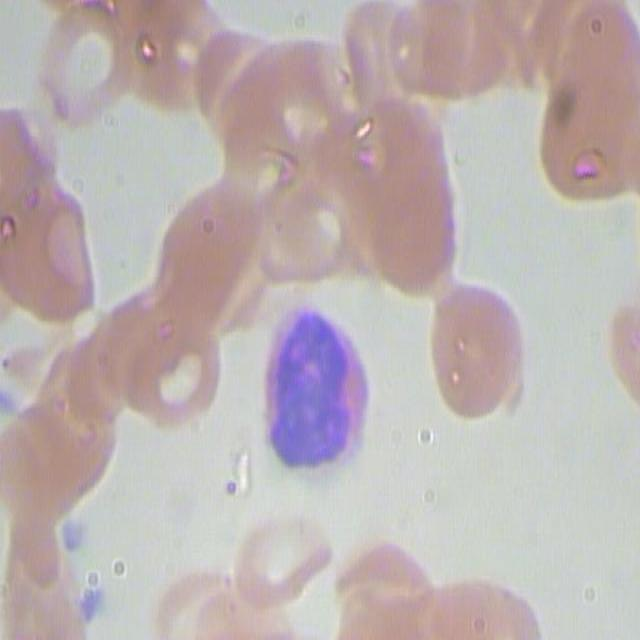RBC: (340, 88, 462, 296), (521, 0, 638, 207), (336, 0, 537, 109), (98, 290, 221, 438), (166, 185, 275, 348), (223, 472, 333, 629), (0, 166, 93, 347), (428, 278, 532, 422), (24, 337, 116, 496), (113, 2, 224, 116), (40, 3, 133, 131)
WBC: (255, 294, 377, 465)
platelets: (74, 569, 116, 634), (57, 512, 103, 564)
